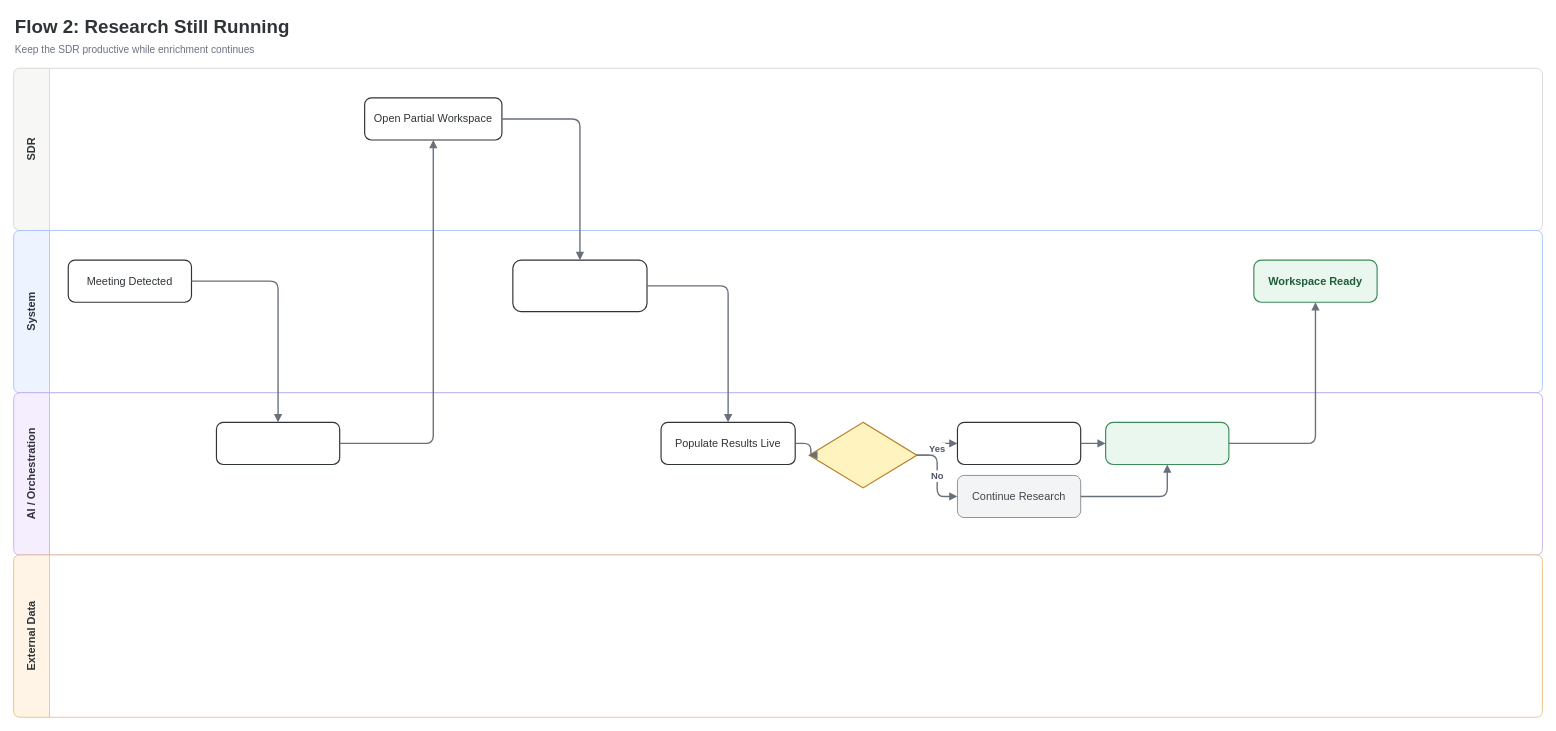
The diagram is 1556 pixels wide and 731 high, and some of its shapes have lost their labels. The centre of each missing label's shape, as x and y in pixels:
"High-Impact Insight?" goes at (862,454).
"Refresh Brief" goes at (1019,443).
"Research Begins" goes at (278,443).
"Research Complete" goes at (1167,443).
"Show Card States Loading • Complete • Updating" goes at (579,285).
